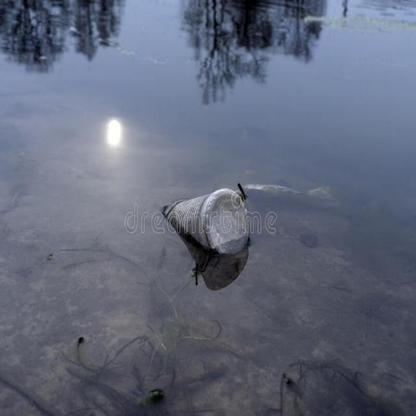plastic bottle: (160, 190, 250, 254)
